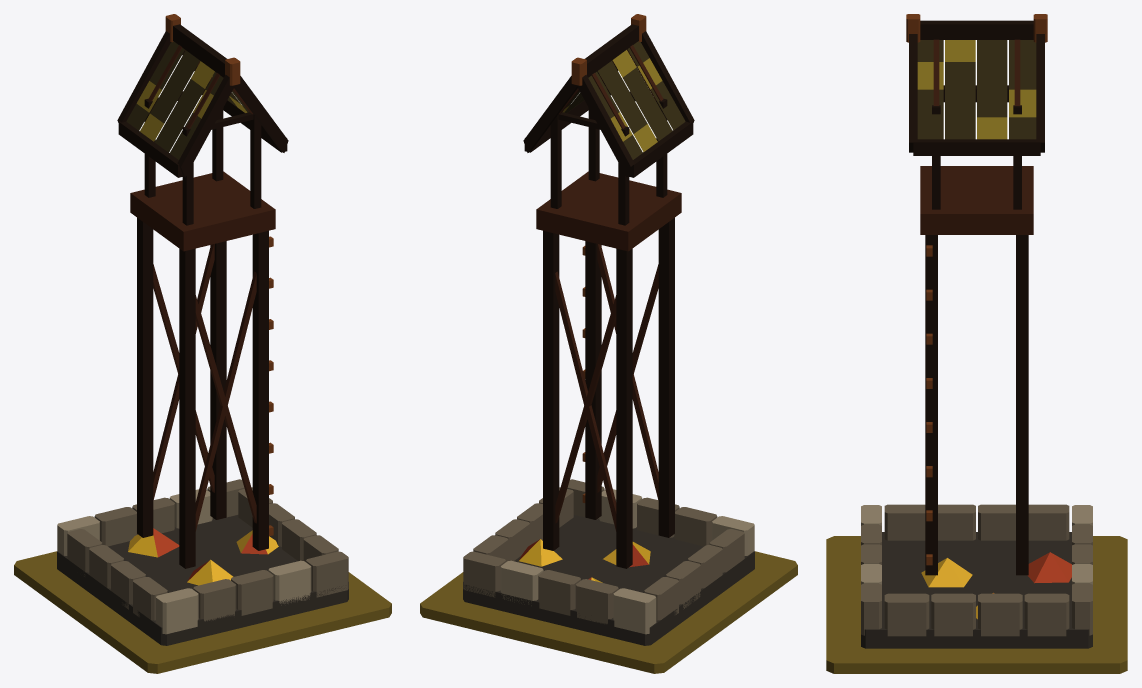
File: tower_t3.glb
The picture shows the model from 3 angles, left to right: view 1: azimuth 30°, elevation 25°; view 2: azimuth 150°, elevation 25°; view 3: azimuth 270°, elevation 25°; orthographic projection. The views are drawn at different scales.
Visible parts, largest first — view 1: MMR | tower | T03 Architecture.001, MMR | tower | Tier 03 Ground.001, MMR | tower | T03 Roof Supports.001, MMR | tower | T03 Autumn Dressing.001; view 2: MMR | tower | T03 Architecture.001, MMR | tower | Tier 03 Ground.001, MMR | tower | T03 Roof Supports.001, MMR | tower | T03 Autumn Dressing.001; view 3: MMR | tower | T03 Architecture.001, MMR | tower | Tier 03 Ground.001, MMR | tower | T03 Roof Supports.001, MMR | tower | T03 Autumn Dressing.001.
Part boxes in pixels (x1=…): MMR | tower | T03 Architecture.001: x1=57, y1=14, x2=348, y2=645; MMR | tower | Tier 03 Ground.001: x1=14, y1=551, x2=391, y2=673; MMR | tower | T03 Roof Supports.001: x1=144, y1=45, x2=261, y2=225; MMR | tower | T03 Autumn Dressing.001: x1=128, y1=528, x2=278, y2=585; MMR | tower | T03 Architecture.001: x1=463, y1=14, x2=754, y2=645; MMR | tower | Tier 03 Ground.001: x1=420, y1=551, x2=797, y2=673; MMR | tower | T03 Roof Supports.001: x1=550, y1=45, x2=667, y2=225; MMR | tower | T03 Autumn Dressing.001: x1=519, y1=539, x2=650, y2=582; MMR | tower | T03 Architecture.001: x1=861, y1=14, x2=1092, y2=648; MMR | tower | Tier 03 Ground.001: x1=826, y1=536, x2=1127, y2=673; MMR | tower | T03 Roof Supports.001: x1=932, y1=39, x2=1021, y2=209; MMR | tower | T03 Autumn Dressing.001: x1=921, y1=552, x2=1071, y2=619.
Bounding box in the file's own units: 1.3 × 2.83 × 1.3.
1 material, 1 textured.
